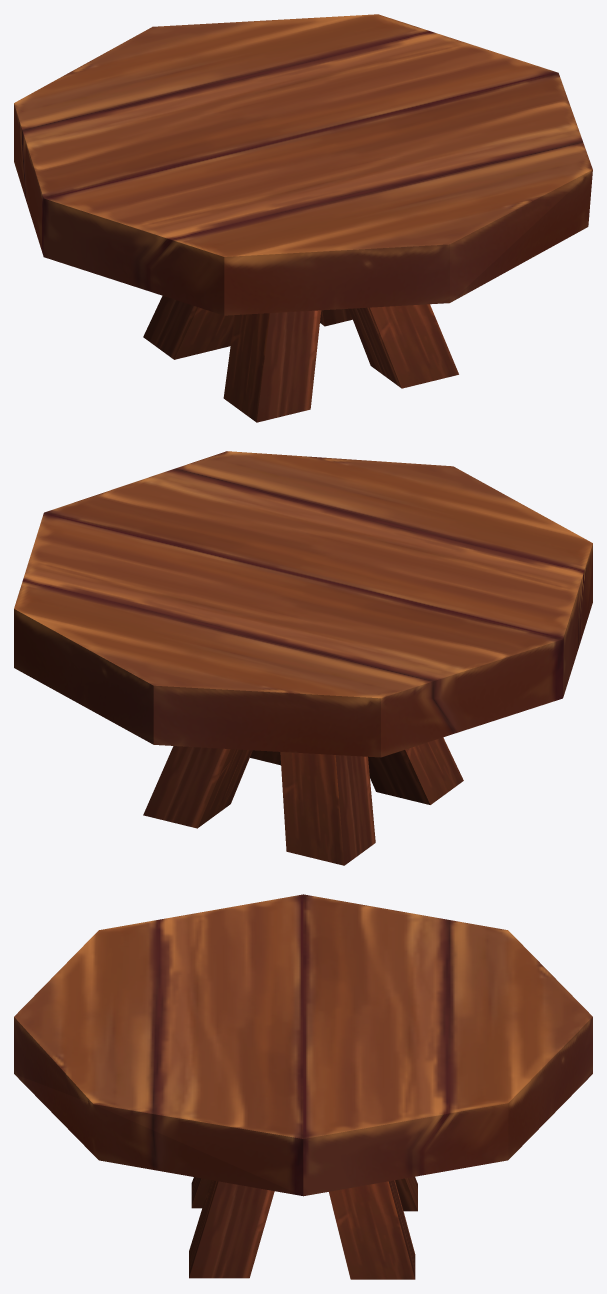
File: ZhuoZi04.FBX
3 views of the same model, one above another, from view 1: azimuth 30°, elevation 25°; view 2: azimuth 150°, elevation 25°; view 3: azimuth 270°, elevation 25° (orthographic). The views are drawn at different scales.
Parts seen in each view (by area): view 1: ZhuoZi04; view 2: ZhuoZi04; view 3: ZhuoZi04.
Part boxes in pixels (<box>): ZhuoZi04: <box>14,14,592,422</box>; ZhuoZi04: <box>14,451,592,865</box>; ZhuoZi04: <box>14,894,592,1279</box>.
Size of the model in its own units: 89.18 by 36.45 by 89.18.
